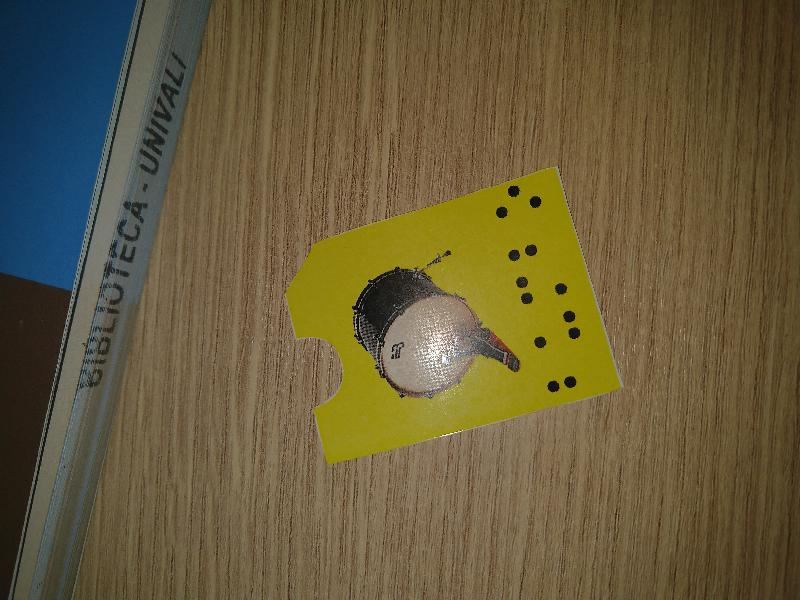bumbo: (283, 164, 623, 466)
